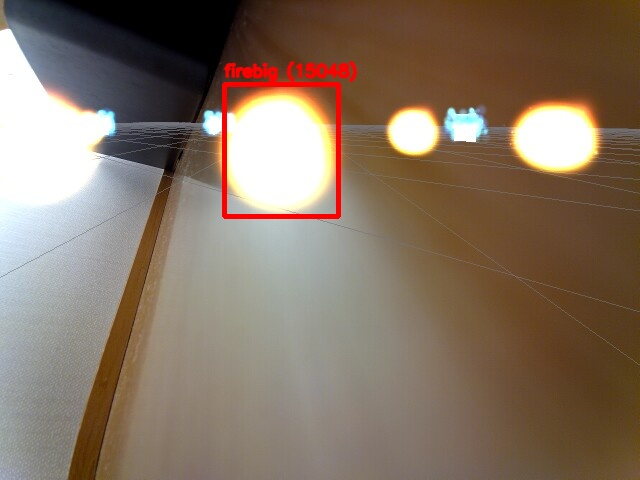firebig: (224, 84, 338, 216)
